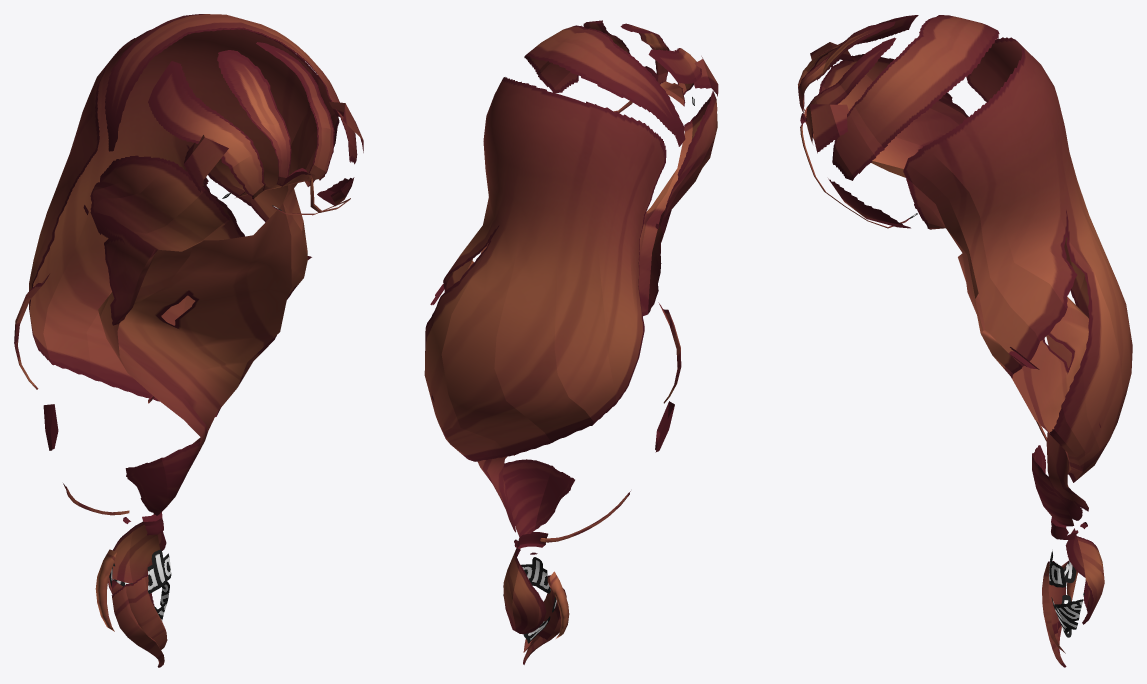
File: Rival1_Hair.fbx
3 views of the same model, side by side, from view 1: azimuth 30°, elevation 25°; view 2: azimuth 150°, elevation 25°; view 3: azimuth 270°, elevation 25° (orthographic). The views are drawn at different scales.
Parts seen in each view (by area): view 1: NewspaperGirlHair.001; view 2: NewspaperGirlHair.001; view 3: NewspaperGirlHair.001.
Part boxes in pixels (bbox=[...]): NewspaperGirlHair.001: bbox=[14, 14, 363, 667]; NewspaperGirlHair.001: bbox=[424, 20, 718, 664]; NewspaperGirlHair.001: bbox=[798, 15, 1132, 667].
Size of the model in its own units: 24.56 by 55.48 by 29.06.
